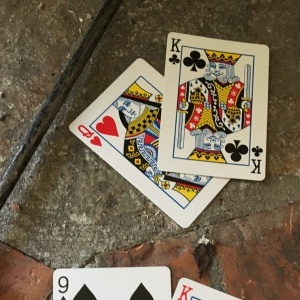card: (66, 57, 234, 227), (160, 31, 274, 183)
